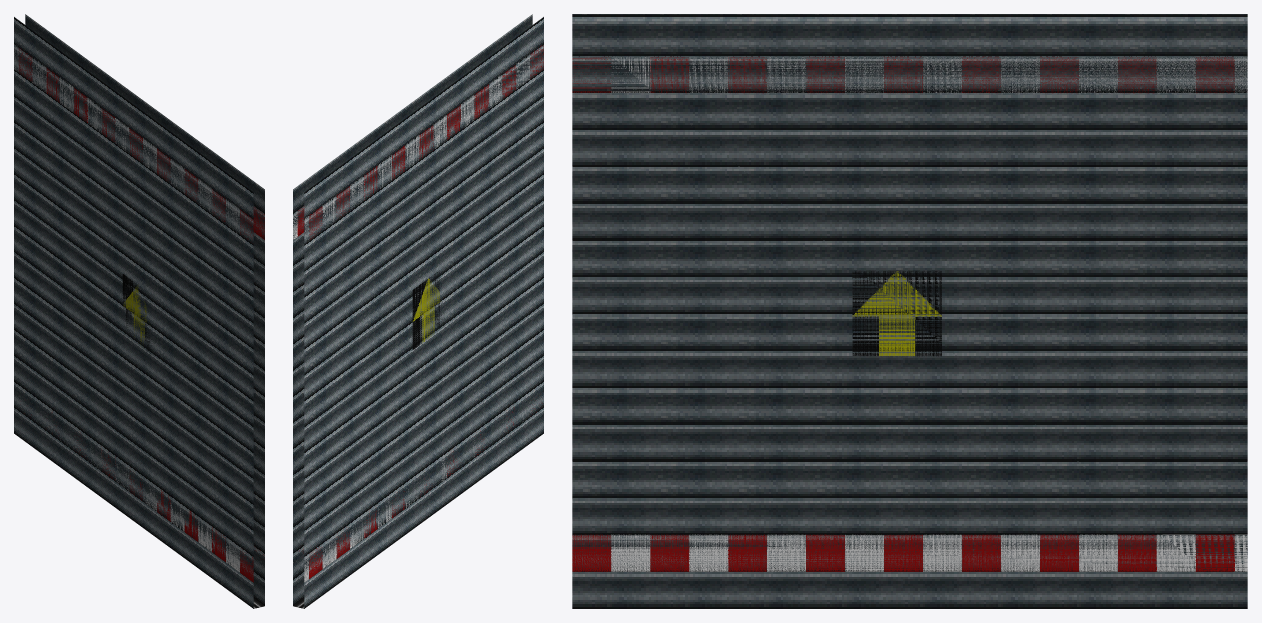
File: primary_112.glb
The picture shows the model from 3 angles, left to right: view 1: azimuth 30°, elevation 25°; view 2: azimuth 150°, elevation 25°; view 3: azimuth 270°, elevation 25°; orthographic projection. The views are drawn at different scales.
Visible parts, largest first — view 1: Object; view 2: Object; view 3: Object.
Boxes of the visible parts, x1=… form: Object: x1=14, y1=14, x2=264, y2=608; Object: x1=293, y1=14, x2=543, y2=608; Object: x1=572, y1=14, x2=1247, y2=608.
Bounding box in the file's own units: 0.1035 × 3.68 × 3.83.
6 materials, 6 textured.
